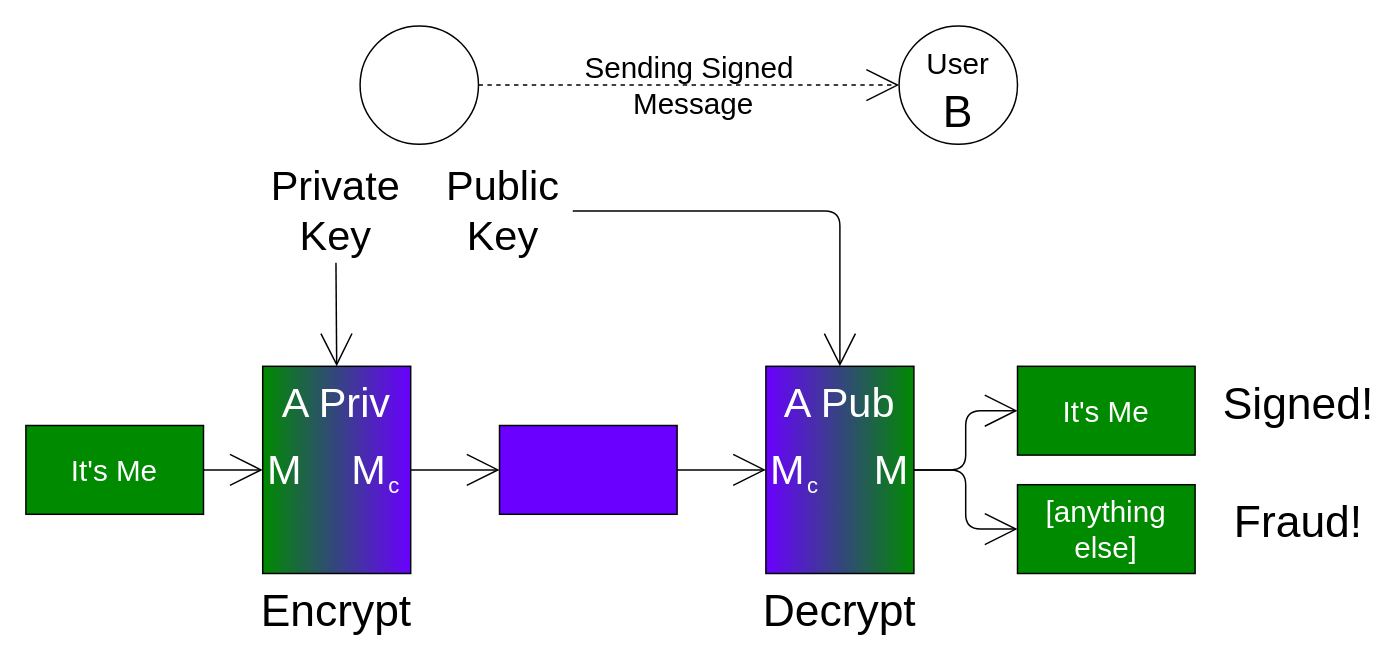
The diagram is 1400 pixels wide and 663 high, and some of its shapes have lost their labels. The centre of each missing label's shape, as x and y in pixels:
"a*4B-0_" goes at (587,469).
"User A" goes at (418,84).
